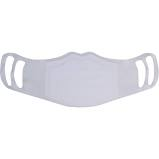cloth_mask: (1, 49, 159, 108)
